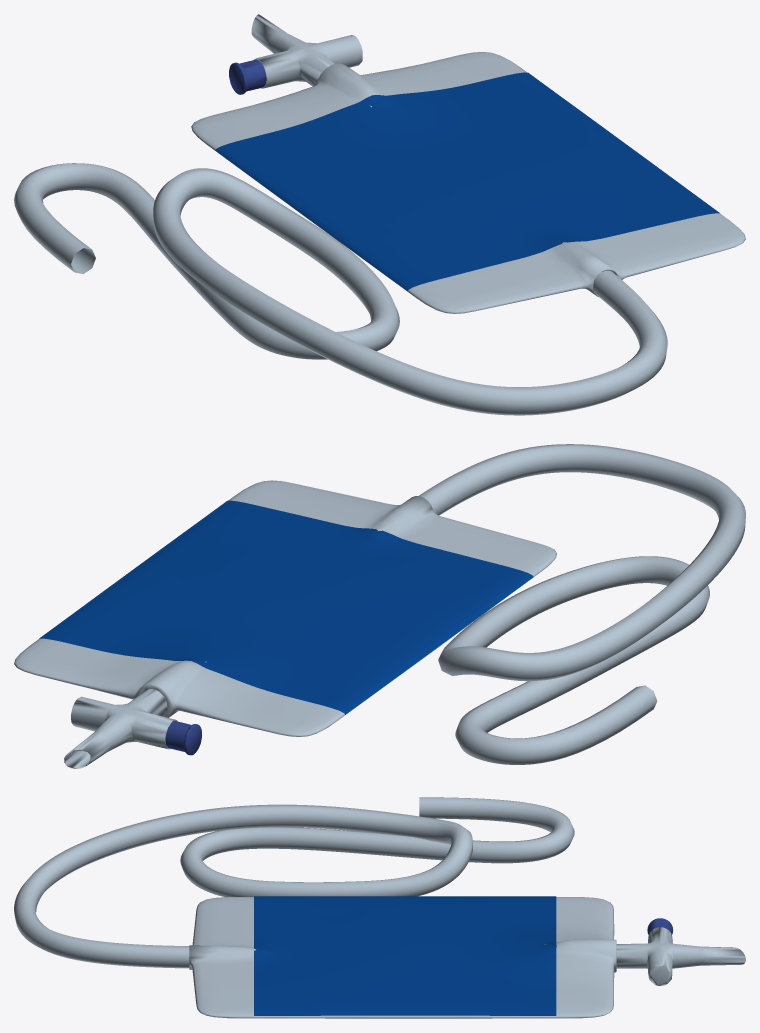
Rendered from Urine Collection Bag_on Table.glb.
3 views of the same model, one above another, from view 1: azimuth 30°, elevation 25°; view 2: azimuth 150°, elevation 25°; view 3: azimuth 270°, elevation 25° (orthographic). The views are drawn at different scales.
Visible parts, largest first — view 1: NurbsPath.002; view 2: NurbsPath.002; view 3: NurbsPath.002.
Part boxes in pixels (box(x1,y1,x2,y2)): NurbsPath.002: box(14, 14, 745, 415); NurbsPath.002: box(14, 444, 745, 768); NurbsPath.002: box(14, 797, 745, 1018).
Size of the model in its own units: 0.1701 by 0.0185 by 0.2516.
1 material, 1 textured.
